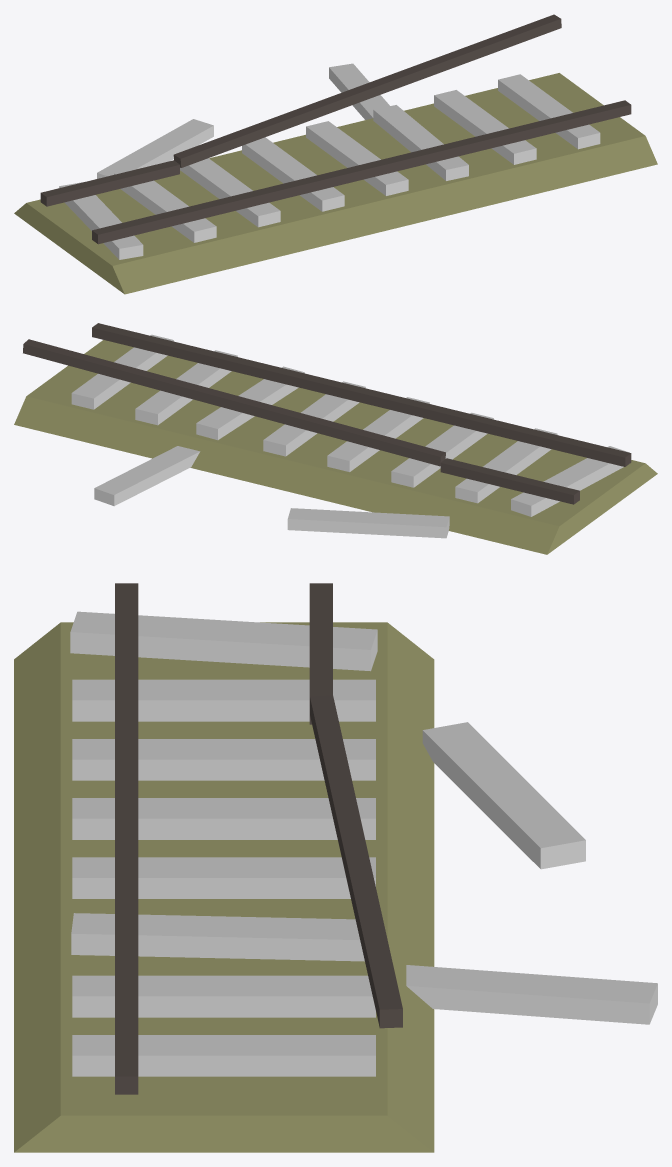
Rendered from SM_Via_Recta10_v4_Danada_LOD1.fbx.
The picture shows the model from 3 angles, top to bottom: view 1: azimuth 30°, elevation 25°; view 2: azimuth 150°, elevation 25°; view 3: azimuth 270°, elevation 25°; orthographic projection. The views are drawn at different scales.
Visible parts, largest first — view 1: SM_via_trazado_v4_LOD1; view 2: SM_via_trazado_v4_LOD1; view 3: SM_via_trazado_v4_LOD1.
Boxes of the visible parts, x1,y1,x2,y2 form: SM_via_trazado_v4_LOD1: (14, 14, 657, 294); SM_via_trazado_v4_LOD1: (14, 323, 657, 554); SM_via_trazado_v4_LOD1: (14, 583, 657, 1152).
Bounding box in the file's own units: 10 × 1.35 × 5.52.
